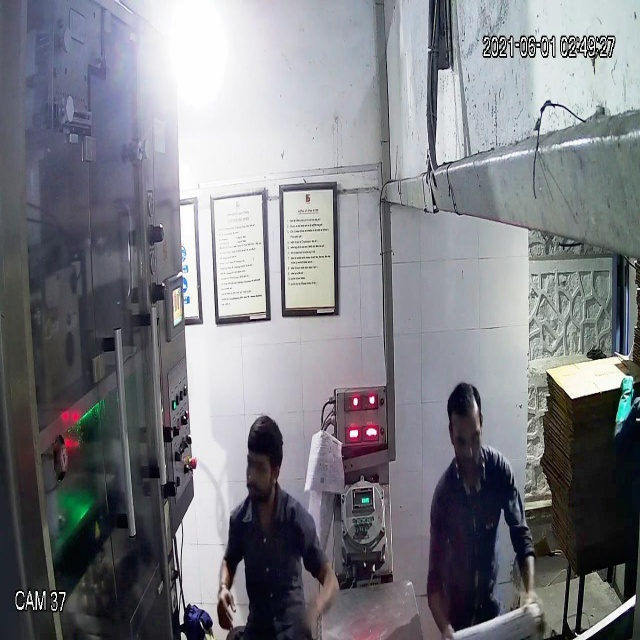Sin_gafas: (234, 452, 286, 488), (442, 420, 486, 456)
